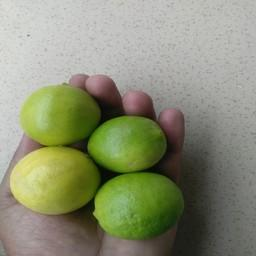Good_lime: (7, 145, 98, 213), (91, 173, 181, 240), (16, 84, 99, 146), (87, 113, 165, 174)
